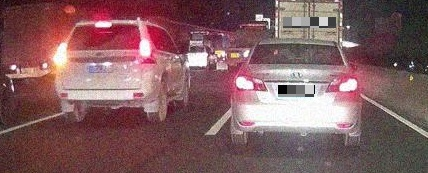L_light: (235, 75, 268, 92), (54, 42, 68, 67)
R_light: (325, 75, 358, 93), (139, 39, 156, 65)
T_light: (94, 22, 112, 28), (291, 42, 304, 46)
night-left: (54, 20, 160, 123)
night-no: (231, 38, 361, 147)
plate_1: (283, 17, 336, 28)
plate_2: (278, 85, 315, 97)
